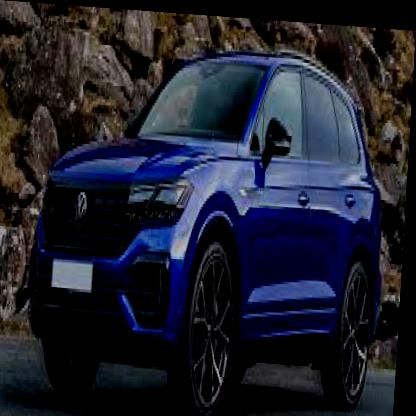Car: (26, 33, 397, 415)
